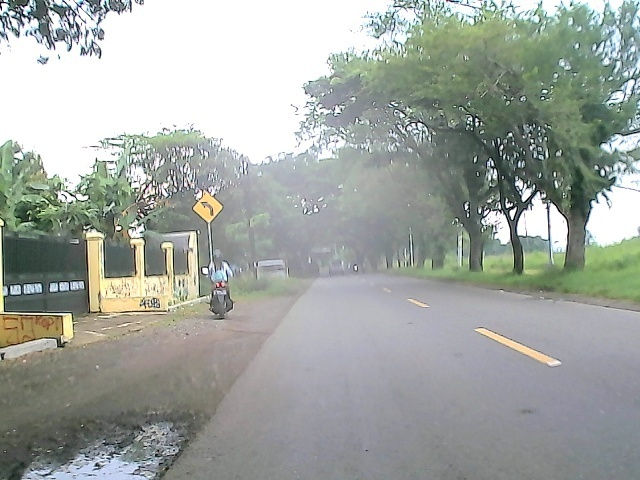Tikungan ke kiri: (191, 191, 224, 225)
